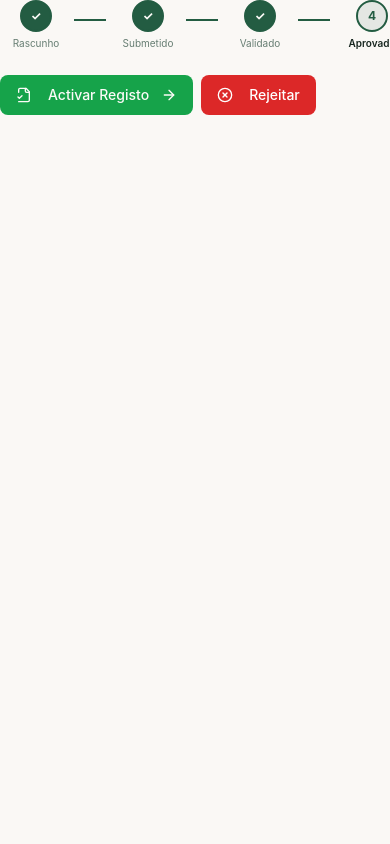
Test case: WorkflowActions — E2E DOM: transição approved → issued/active › Diálogo de confirmação — bloco explicativo › cooperative: banner ÂMBAR explicando que NÃO há cartão
This screenshot has width=390, height=844.
Click the button "Activar Registo" at [97, 95], box [0,75,193,115]
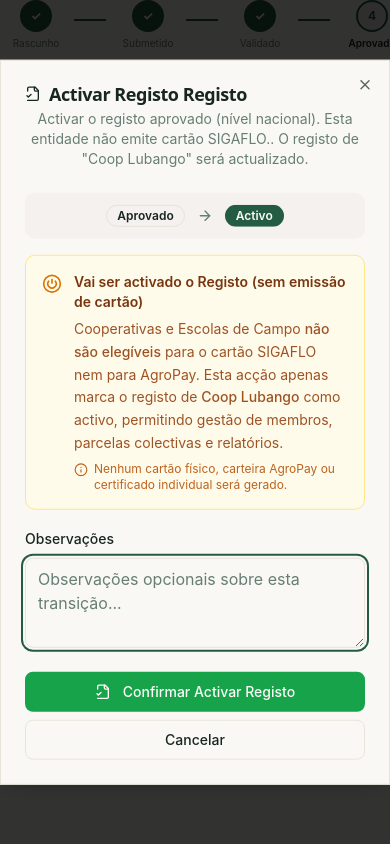
Expected: the text "Vai ser activado o Registo (sem emissão de cartão)" is shown, [74,272,348,312]
Expected: the text "não são elegíveis" is shown, [74,320,330,360]
Expected: the text "Nenhum cartão físico" is shown, [94,460,335,491]
